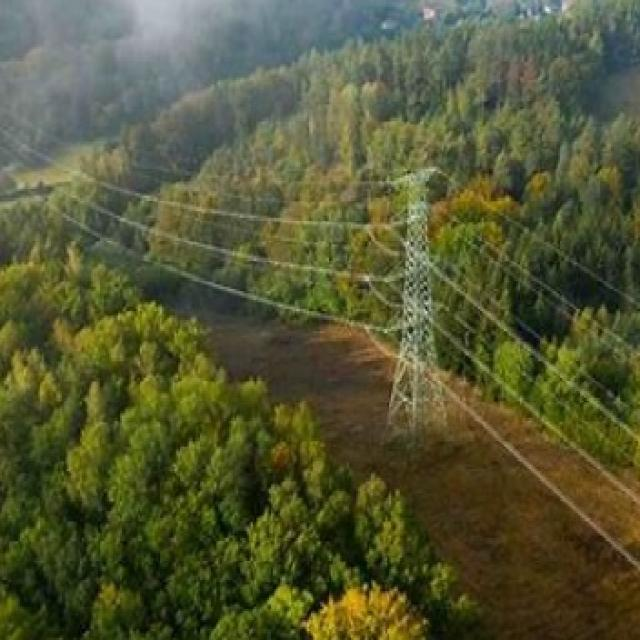utility poles: (381, 138, 472, 458)
